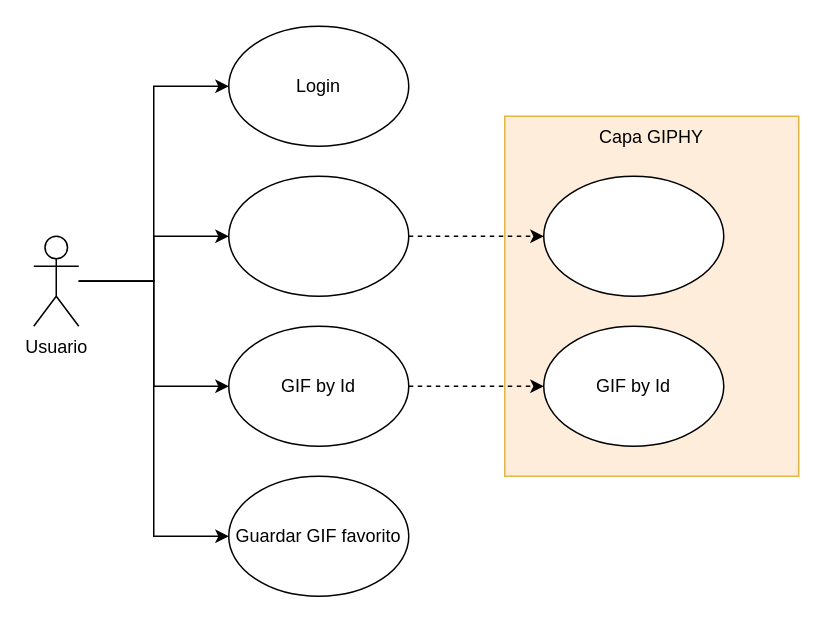
The diagram is 825 pixels wide and 623 high, and some of its shapes have lost their labels. Here are the shapes that lost their labels. From the top down, the centre of each, then its label:
At (318,235): "Buscar GIFs".
At (633,235): "Buscar GIF".
